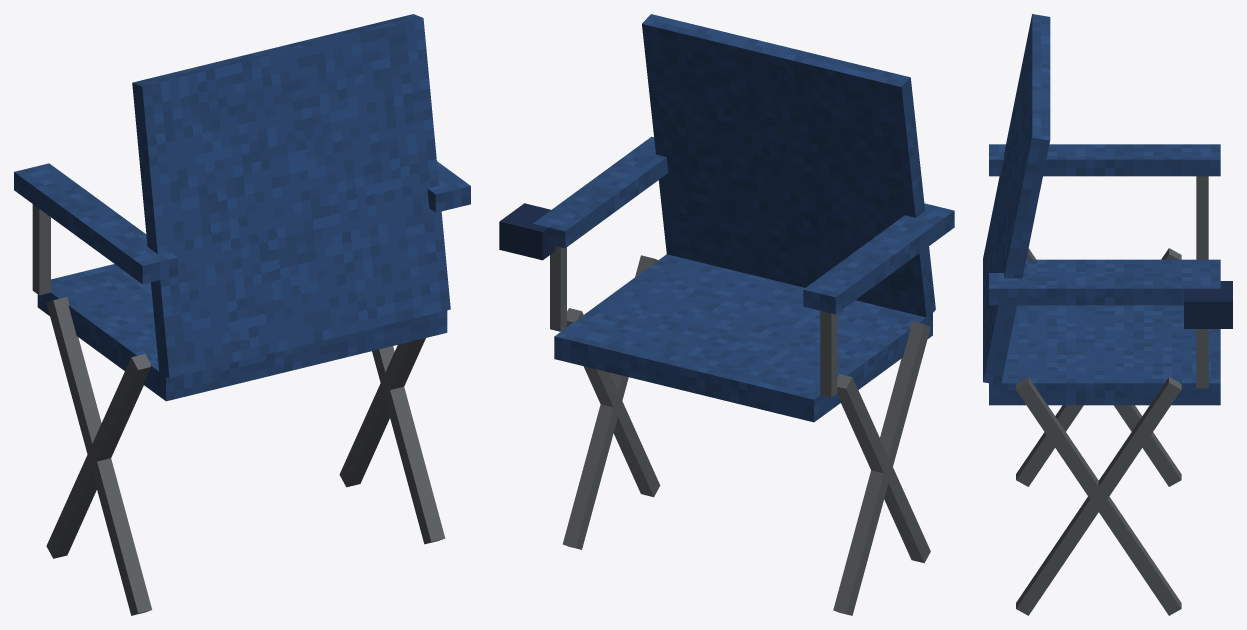
File: f_camp_chair.glb
3 renders of one model, left to right at view 1: azimuth 30°, elevation 25°; view 2: azimuth 150°, elevation 25°; view 3: azimuth 270°, elevation 25°, orthographic. The views are drawn at different scales.
Parts seen in each view (by area): view 1: block_back, block_seat, block_arm-1, block_leg-1-0.55, block_leg-10.55, block_leg1-0.55, block_leg10.55, block_armpost-1, block_arm1; view 2: block_back, block_seat, block_arm-1, block_leg-10.55, block_arm1, block_leg-1-0.55, block_leg10.55, block_leg1-0.55, block_cupholder, block_armpost-1, block_armpost1; view 3: block_seat, block_back, block_arm1, block_arm-1, block_leg1-0.55, block_leg10.55, block_cupholder, block_leg-1-0.55, block_leg-10.55, block_armpost-1, block_armpost1.
Part boxes in pixels (box(x1,y1,x2,y2)): block_back: box(132, 14, 450, 377); block_seat: box(37, 264, 447, 401); block_arm-1: box(14, 163, 177, 284); block_leg-1-0.55: box(46, 297, 152, 615); block_leg-10.55: box(46, 354, 150, 558); block_leg1-0.55: box(372, 346, 445, 544); block_leg10.55: box(339, 338, 425, 487); block_armpost-1: box(32, 204, 50, 295); block_arm1: box(427, 161, 470, 212); block_back: box(642, 14, 935, 318); block_seat: box(554, 254, 932, 422); block_arm-1: box(803, 203, 954, 314); block_leg-10.55: box(833, 321, 930, 615); block_arm1: box(533, 136, 668, 248); block_leg-1-0.55: box(837, 374, 930, 563); block_leg10.55: box(563, 255, 658, 549); block_leg1-0.55: box(567, 308, 660, 497); block_cupholder: box(499, 203, 562, 260); block_armpost-1: box(820, 311, 837, 397); block_armpost1: box(550, 246, 566, 331); block_seat: box(989, 259, 1220, 405); block_back: box(983, 14, 1050, 384); block_arm1: box(989, 273, 1220, 305); block_arm-1: box(989, 144, 1220, 176); block_leg1-0.55: box(1016, 377, 1181, 615); block_leg10.55: box(1016, 377, 1181, 615); block_cupholder: box(1184, 281, 1232, 328); block_leg-1-0.55: box(1016, 248, 1181, 486); block_leg-10.55: box(1026, 248, 1181, 486); block_armpost-1: box(1196, 176, 1208, 259); block_armpost1: box(1196, 329, 1208, 388).
Size of the model in its own units: 0.61 by 0.8554 by 0.4098.
Materials: 2 (2 with a texture image).
